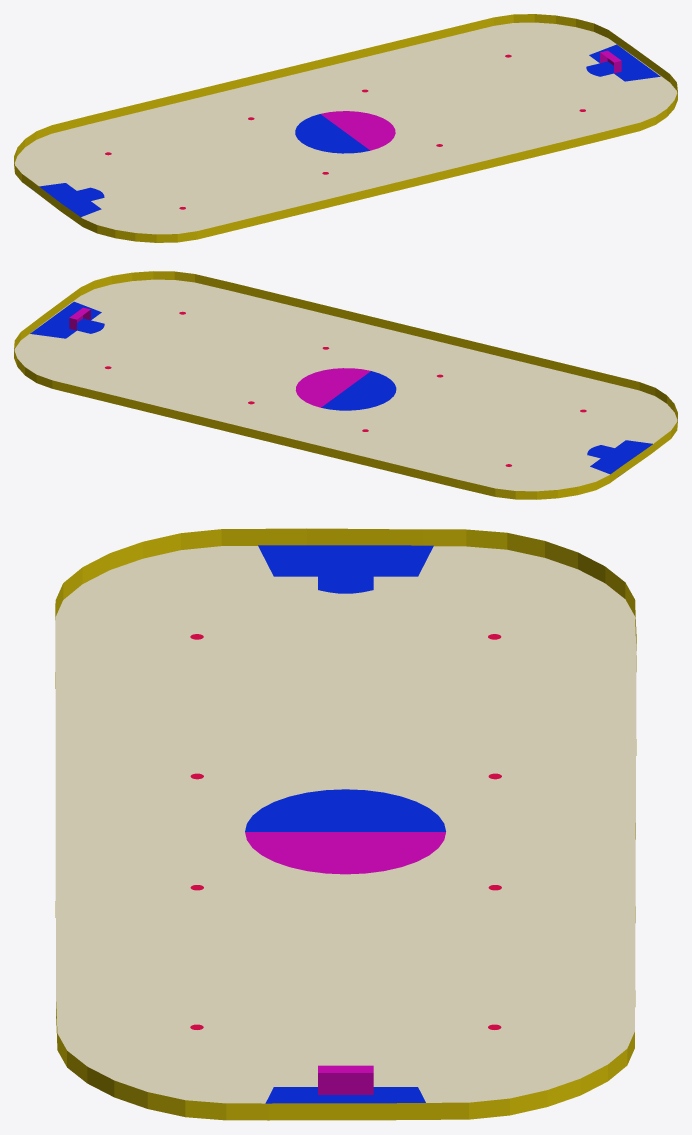
The model's file is rink-base.glb.
The picture shows the model from 3 angles, top to bottom: view 1: azimuth 30°, elevation 25°; view 2: azimuth 150°, elevation 25°; view 3: azimuth 270°, elevation 25°; orthographic projection. The views are drawn at different scales.
Visible parts, largest first — view 1: rink, rink.001, circle-base.005, circle-base.004, Plane.003, Plane.001; view 2: rink, rink.001, circle-base.005, circle-base.004, Plane.003, Plane.001; view 3: rink, rink.001, circle-base.005, circle-base.004, Plane.001, Plane.003, Plane.009, Plane.
Boxes of the visible parts, box(x1,y1,x2,y2) form: rink: box(14, 22, 677, 234); rink.001: box(14, 14, 677, 242); circle-base.005: box(295, 114, 369, 153); circle-base.004: box(321, 111, 395, 150); Plane.003: box(589, 44, 660, 81); Plane.001: box(30, 183, 101, 216); rink: box(14, 279, 677, 491); rink.001: box(14, 271, 677, 499); circle-base.005: box(321, 371, 396, 410); circle-base.004: box(295, 368, 370, 407); Plane.003: box(30, 301, 101, 338); Plane.001: box(590, 440, 652, 476); rink: box(55, 546, 636, 1103); rink.001: box(55, 528, 636, 1120); circle-base.005: box(245, 789, 445, 831); circle-base.004: box(245, 832, 445, 874); Plane.001: box(258, 545, 433, 576); Plane.003: box(265, 1087, 425, 1103); Plane.009: box(318, 1065, 373, 1094); Plane: box(318, 576, 373, 593).
Size of the model in its own units: 60.84 by 1.12 by 25.99.
